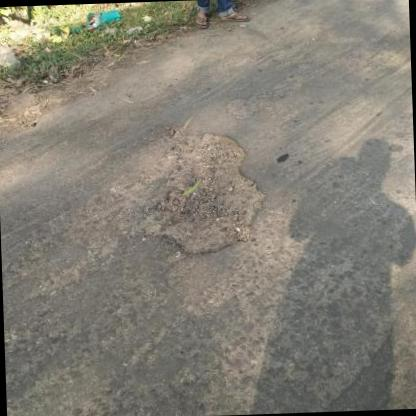pothole: (135, 125, 270, 260), (226, 95, 263, 121)
